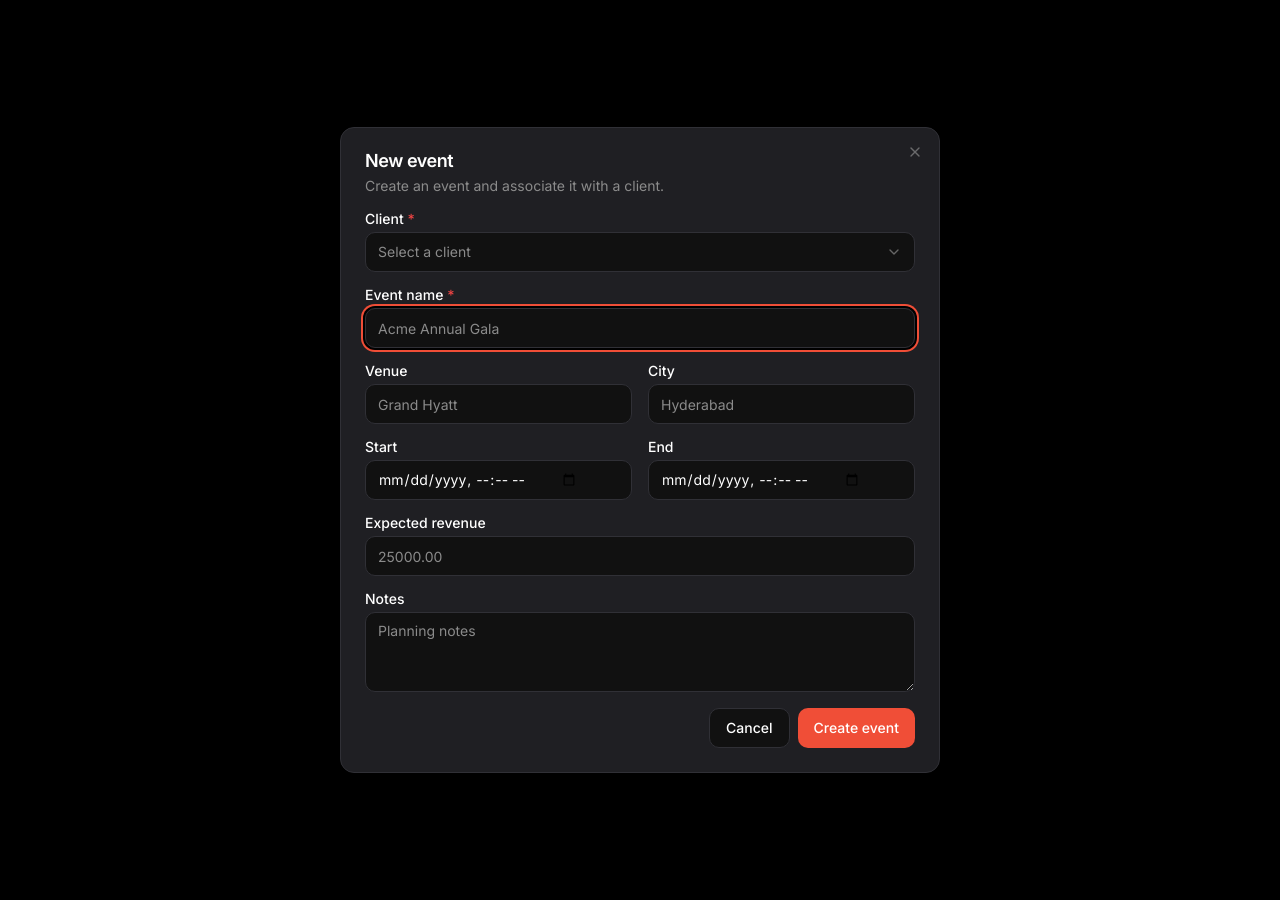
it: events feature › shows a validation error when event name is empty
The width and height of the screenshot is (1280, 900).
Click the button "Create event" at x=856, y=728, box x1=798 y1=708 x2=915 y2=748
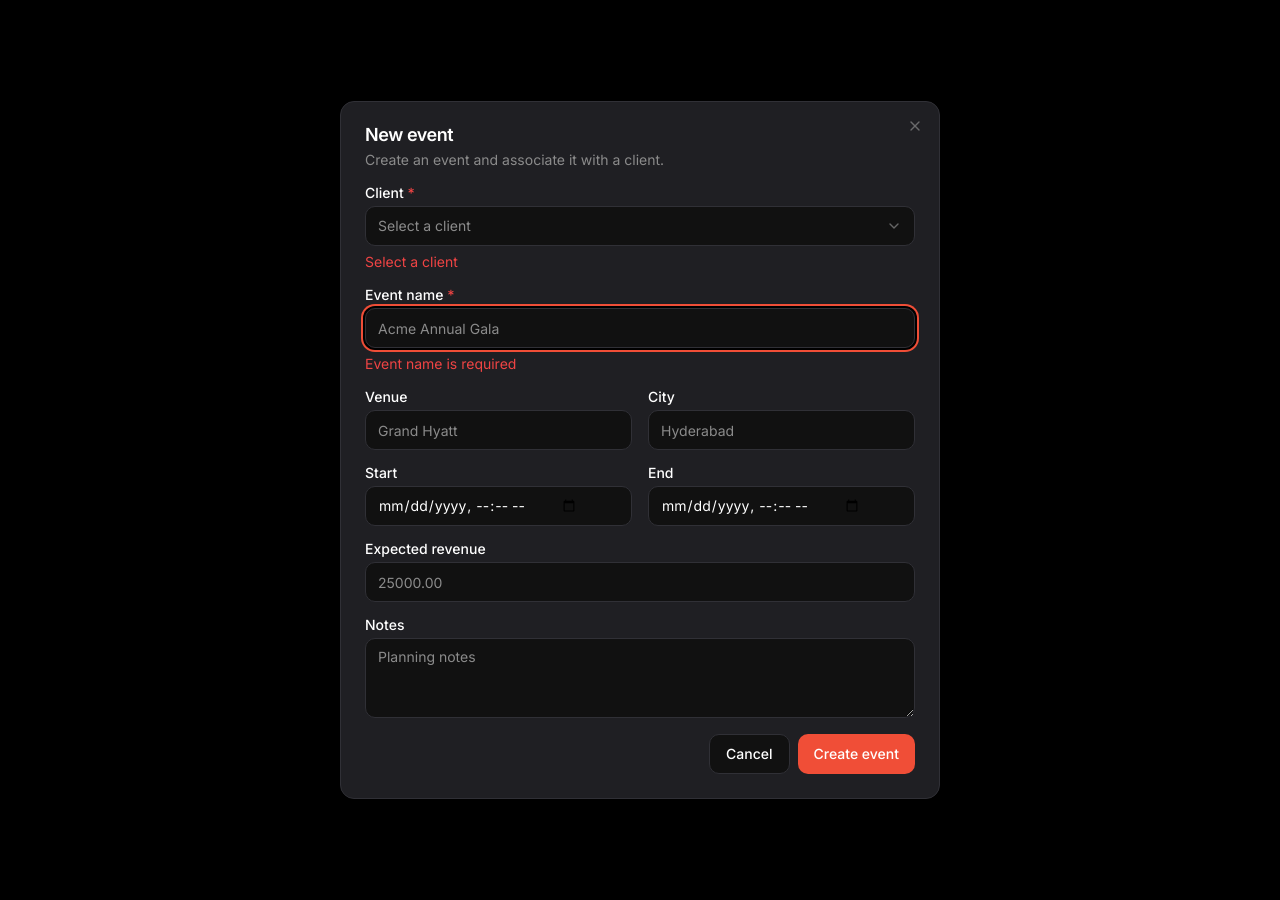
Now the text "Event name is required" is shown, box x1=365 y1=355 x2=516 y2=372
